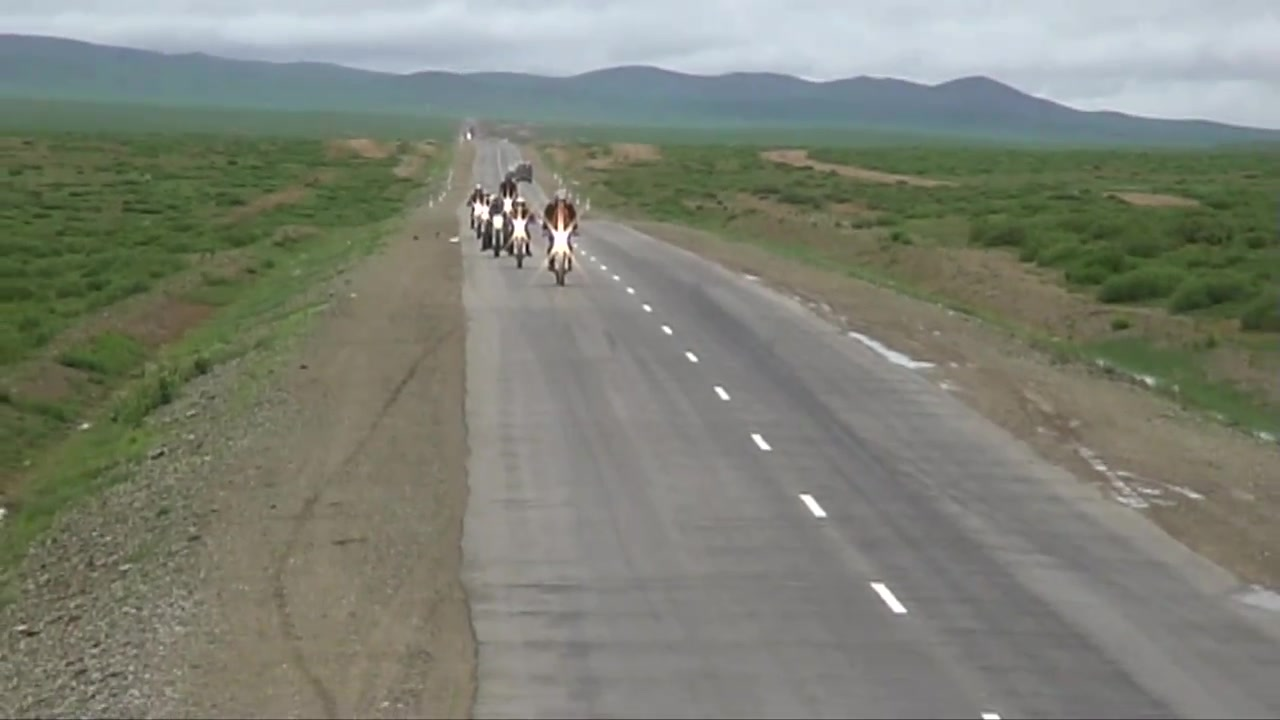motorbike: (542, 219, 582, 290), (505, 207, 540, 274), (489, 216, 515, 262), (495, 185, 525, 214), (472, 200, 491, 238)
